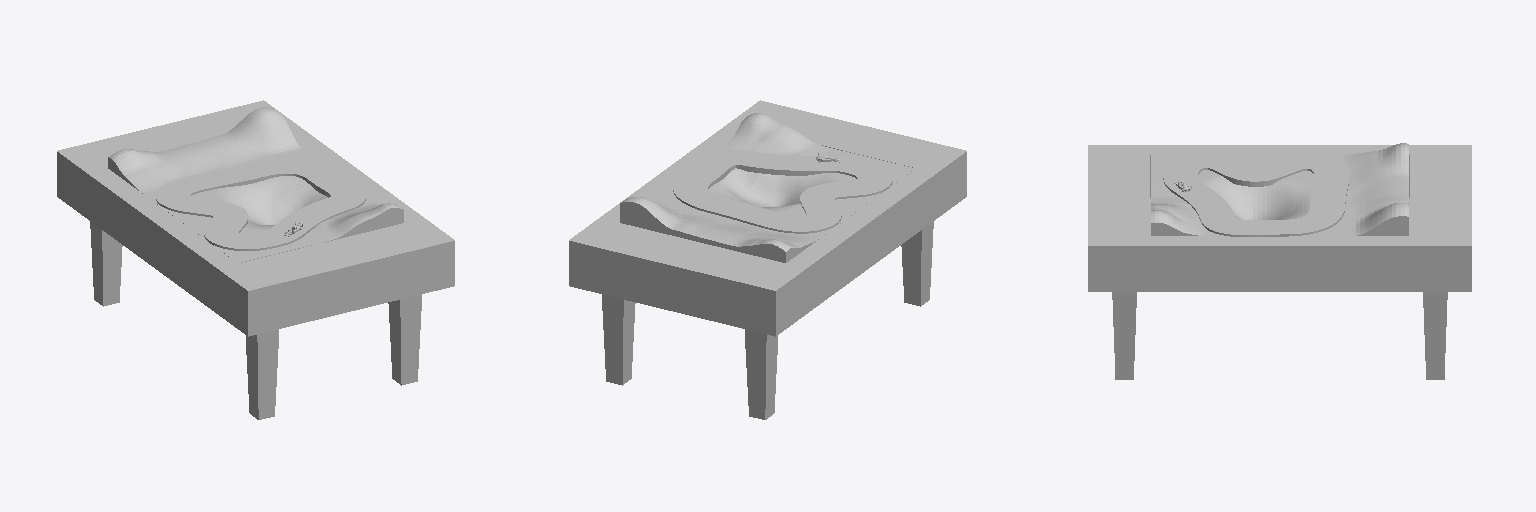
Rendered from NewestTisch51.obj.
3 renders of one model, left to right at view 1: azimuth 30°, elevation 25°; view 2: azimuth 150°, elevation 25°; view 3: azimuth 270°, elevation 25°, orthographic.
Visible parts, largest first — view 1: Tischplatte_wood_table_001, Landschaft_aerial_grass_rock, off, Bein1_wood_table_001, Bein4_wood_table_001.003, Bein3_wood_table_001.002; view 2: Tischplatte_wood_table_001, Landschaft_aerial_grass_rock, off, Bein2_wood_table_001.001, Bein3_wood_table_001.002, Bein4_wood_table_001.003; view 3: Tischplatte_wood_table_001, Landschaft_aerial_grass_rock, off, Bein1_wood_table_001, Bein2_wood_table_001.001.
Boxes of the visible parts, x1,y1,x2,y2 form: Tischplatte_wood_table_001: [57, 100, 454, 336]; Landschaft_aerial_grass_rock: [108, 107, 403, 262]; off: [156, 159, 365, 250]; Bein1_wood_table_001: [388, 294, 421, 385]; Bein4_wood_table_001.003: [246, 329, 278, 419]; Bein3_wood_table_001.002: [90, 221, 122, 306]; Tischplatte_wood_table_001: [569, 100, 966, 336]; Landschaft_aerial_grass_rock: [620, 113, 915, 262]; off: [673, 150, 892, 233]; Bein2_wood_table_001.001: [602, 294, 635, 385]; Bein3_wood_table_001.002: [745, 329, 777, 419]; Bein4_wood_table_001.003: [901, 221, 933, 306]; Tischplatte_wood_table_001: [1088, 145, 1471, 291]; Landschaft_aerial_grass_rock: [1151, 143, 1408, 235]; off: [1163, 153, 1348, 236]; Bein1_wood_table_001: [1112, 292, 1136, 379]; Bein2_wood_table_001.001: [1423, 292, 1447, 379].
Size of the model in its own units: 5 by 3.91 by 8.